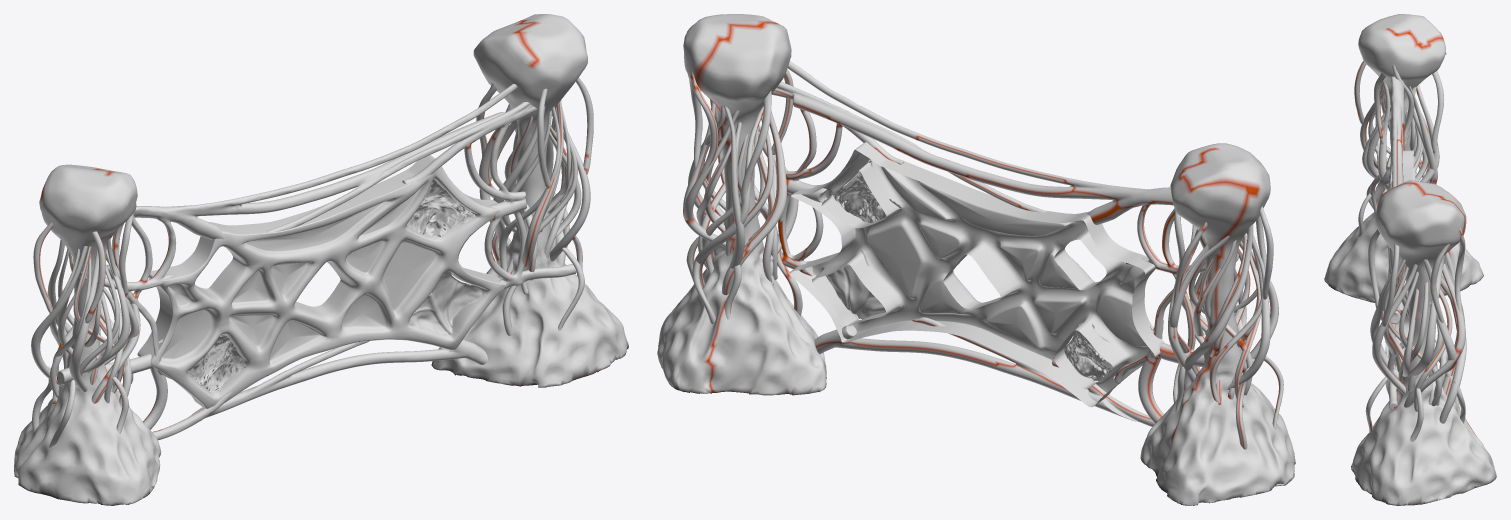
Rendered from SM_Trou2_low.fbx.
3 renders of one model, left to right at view 1: azimuth 30°, elevation 25°; view 2: azimuth 150°, elevation 25°; view 3: azimuth 270°, elevation 25°, orthographic. The views are drawn at different scales.
Visible parts, largest first — view 1: HolePillar_013_SeamsColor, polySurface5, PM3D_Cylinder3D1_3_SeamsColor, HolePillar_089; view 2: HolePillar_013_SeamsColor, polySurface5, PM3D_Cylinder3D1_3_SeamsColor, HolePillar_089; view 3: HolePillar_013_SeamsColor, PM3D_Cylinder3D1_3_SeamsColor, polySurface5.
Boxes of the visible parts, left/top/right/bottom form: HolePillar_013_SeamsColor: left=14, top=14, right=628, bottom=505; polySurface5: left=137, top=155, right=505, bottom=408; PM3D_Cylinder3D1_3_SeamsColor: left=57, top=84, right=576, bottom=440; HolePillar_089: left=187, top=179, right=484, bottom=394; HolePillar_013_SeamsColor: left=657, top=14, right=1295, bottom=505; polySurface5: left=789, top=142, right=1165, bottom=407; PM3D_Cylinder3D1_3_SeamsColor: left=771, top=61, right=1254, bottom=426; HolePillar_089: left=826, top=159, right=1113, bottom=380; HolePillar_013_SeamsColor: left=1324, top=14, right=1496, bottom=505; PM3D_Cylinder3D1_3_SeamsColor: left=1388, top=76, right=1404, bottom=410; polySurface5: left=1385, top=150, right=1415, bottom=394.
Bounding box in the file's own units: 3490 × 1817 × 1006.
